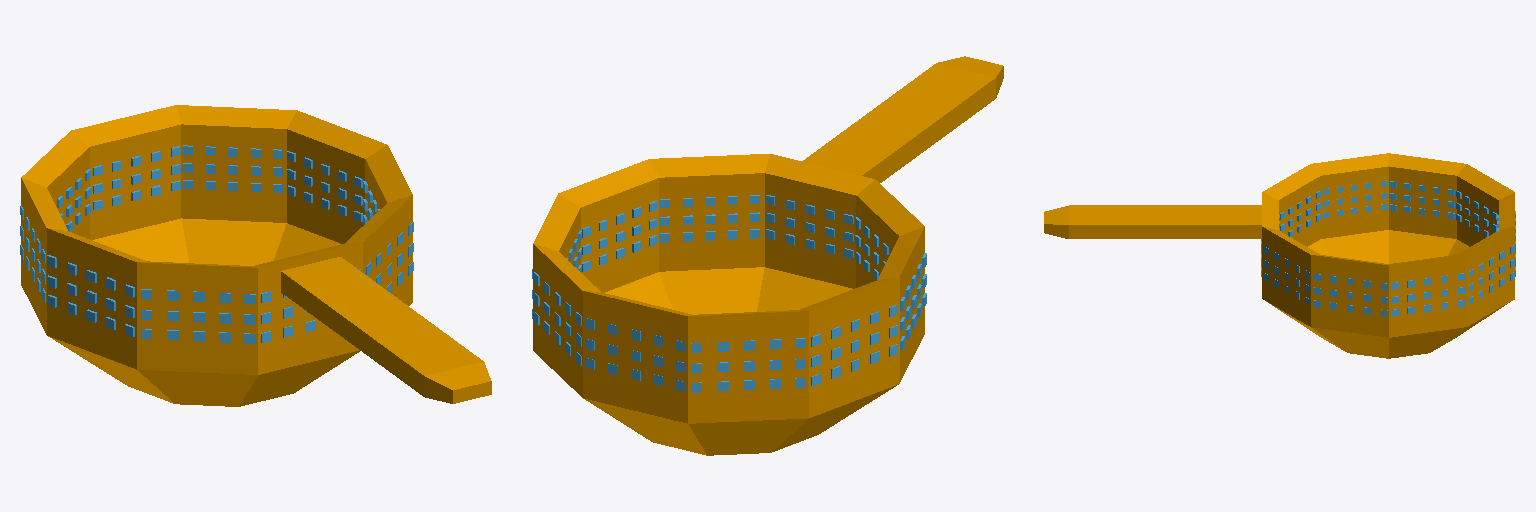
The robot description file, URDF, robot "sift":
<?xml version="1.0"?>
<robot name="sift">
  <link name="sift">
    <inertial>
        <origin rpy="0 0 0" xyz="0 0 0"/>
        <mass value="0.01"/>
        <inertia ixx="4.4e-5" ixy="0" ixz="0" iyy="0" iyz="0" izz="4.4e-5"/>
    </inertial>
    <visual>
      <geometry>
        <mesh filename="Sift.obj"/>
      </geometry>
    </visual>
    <collision>
      <geometry>
        <mesh filename="SiftCollider.obj"/>
      </geometry>
      <surface>
           <bounce restitution_coefficient = "0.1"/>
      </surface>
    </collision>
  </link>
  <link name="holes">
    <inertial>
        <origin rpy="0 0 0" xyz="0 0 0"/>
        <mass value="0.01"/>
        <inertia ixx="4.4e-5" ixy="0" ixz="0" iyy="0" iyz="0" izz="4.4e-5"/>
    </inertial>
    <visual>
      <geometry>
        <mesh filename="SiftHoles.obj"/>
      </geometry>
    </visual>
    <collision>
      <geometry>
        <mesh filename="SiftHolesCollider.obj"/>
      </geometry>
      <surface>
           <bounce restitution_coefficient = "0.1"/>
      </surface>
    </collision>
  </link>
<joint name="sift_to_holes" type="fixed">
    <parent link="sift"/>
    <child link="holes"/>
    <origin rpy="0 0 0" xyz="0 0 0"/>
  </joint>
</robot>

--- What the picture shows (computed from the rendered views, not written in the file) ---
Views: 3 orthographic renders of the robot side by side, from view 1: azimuth 30°, elevation 25°; view 2: azimuth 150°, elevation 25°; view 3: azimuth 270°, elevation 25°.
Model sift with 2 links and 1 joints (1 fixed), rooted at sift, posed all joints at 0.
Visible links, largest first — view 1: sift, holes; view 2: sift, holes; view 3: sift, holes.
Boxes of the visible links, x1,y1,x2,y2 form: sift: (21,105,491,406); holes: (20,145,413,343); sift: (533,56,1003,455); holes: (532,195,926,392); sift: (1044,153,1514,358); holes: (1261,180,1515,316).
Size in the robot's own frame: 0.1654 by 0.2913 by 0.082 metres.
2 mesh visuals loaded from 2 distinct referenced files (2 OBJ).
